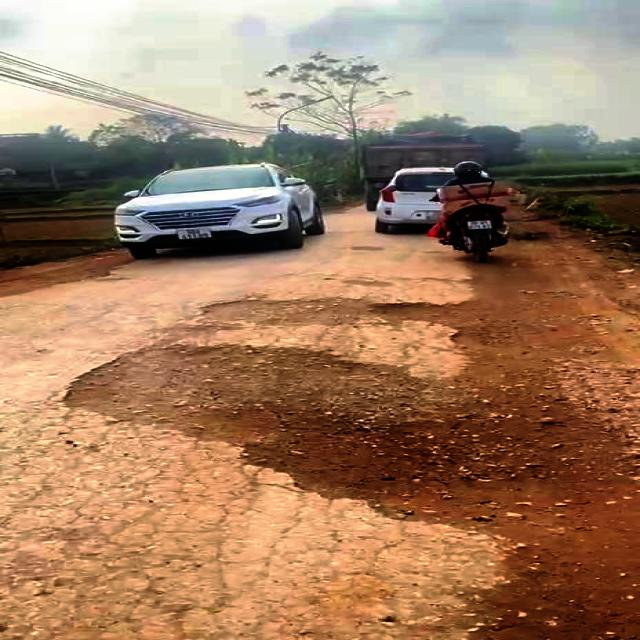pothole: (58, 334, 549, 548), (192, 296, 498, 346)
